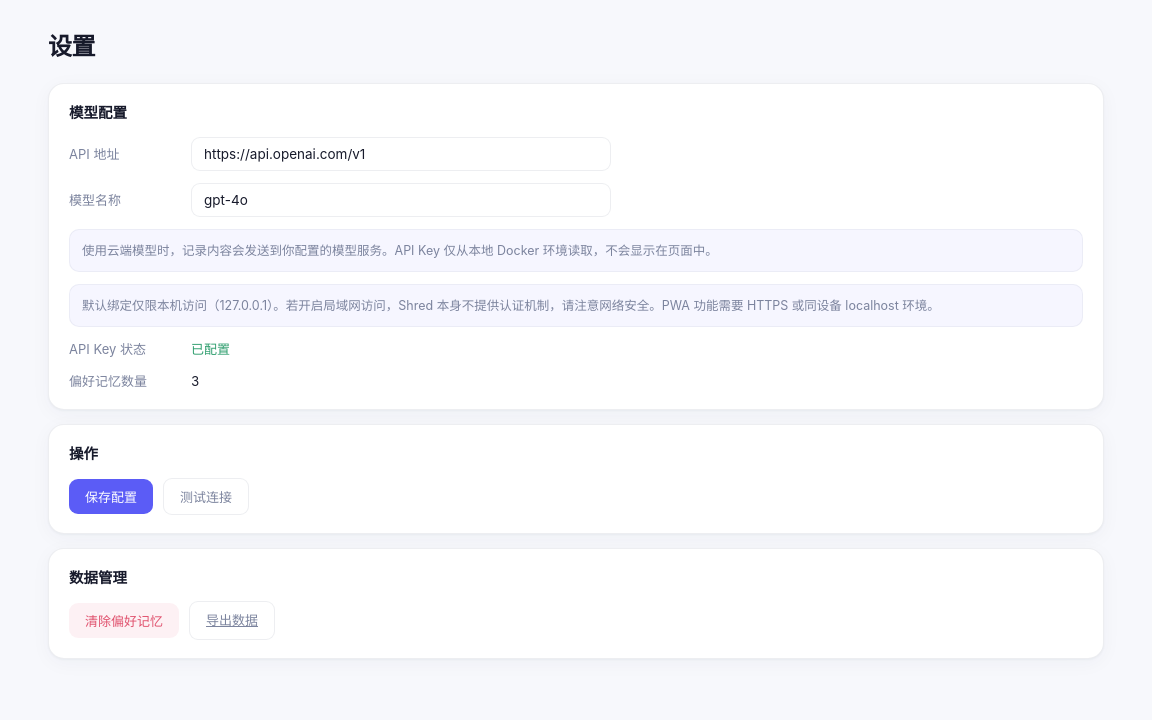
SettingsPage › shows connection test error
Click the button "测试连接" at (206, 496), box [163,478,249,515]
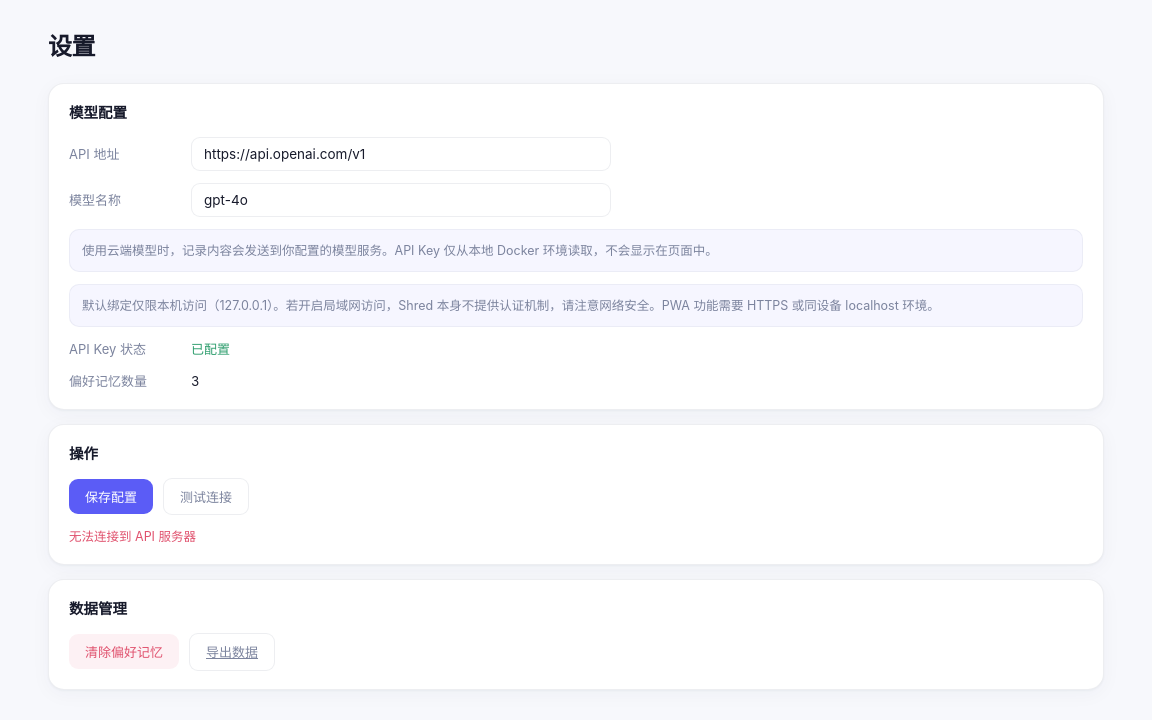
Expected: the text "无法连接到 API 服务器" is shown, [69,529,196,544]
